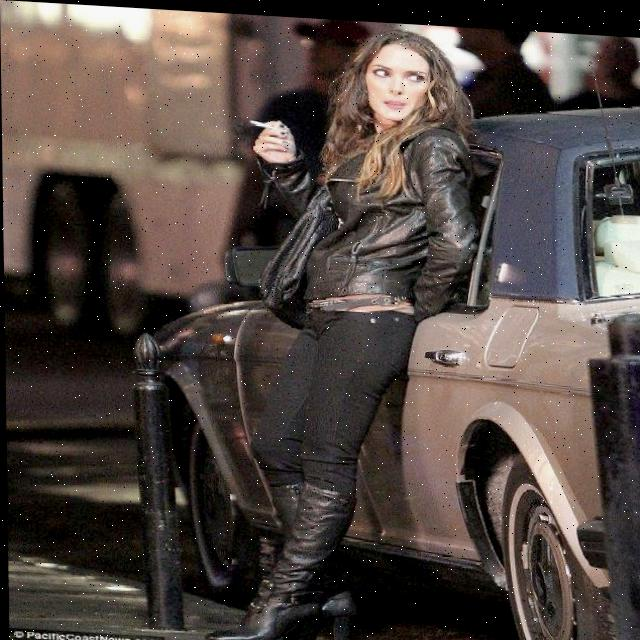cigarette: (249, 118, 287, 129)
